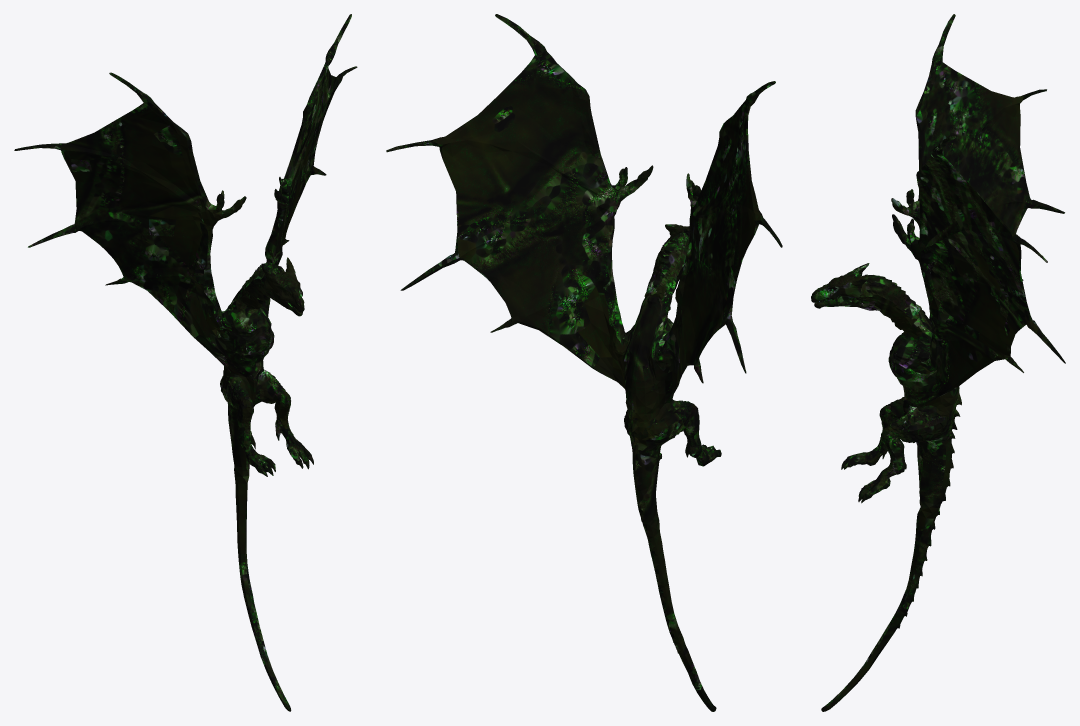
Rendered from frame_0021_uv.obj.
3 views of the same model, side by side, from view 1: azimuth 30°, elevation 25°; view 2: azimuth 150°, elevation 25°; view 3: azimuth 270°, elevation 25° (orthographic). The views are drawn at different scales.
Parts seen in each view (by area): view 1: pMesh1; view 2: pMesh1; view 3: pMesh1.
Boxes of the visible parts, box(x1,y1,x2,y2) form: pMesh1: box(14, 14, 357, 711); pMesh1: box(386, 14, 782, 711); pMesh1: box(811, 14, 1065, 711).
Size of the model in its own units: 9.24 by 15.97 by 5.77.
